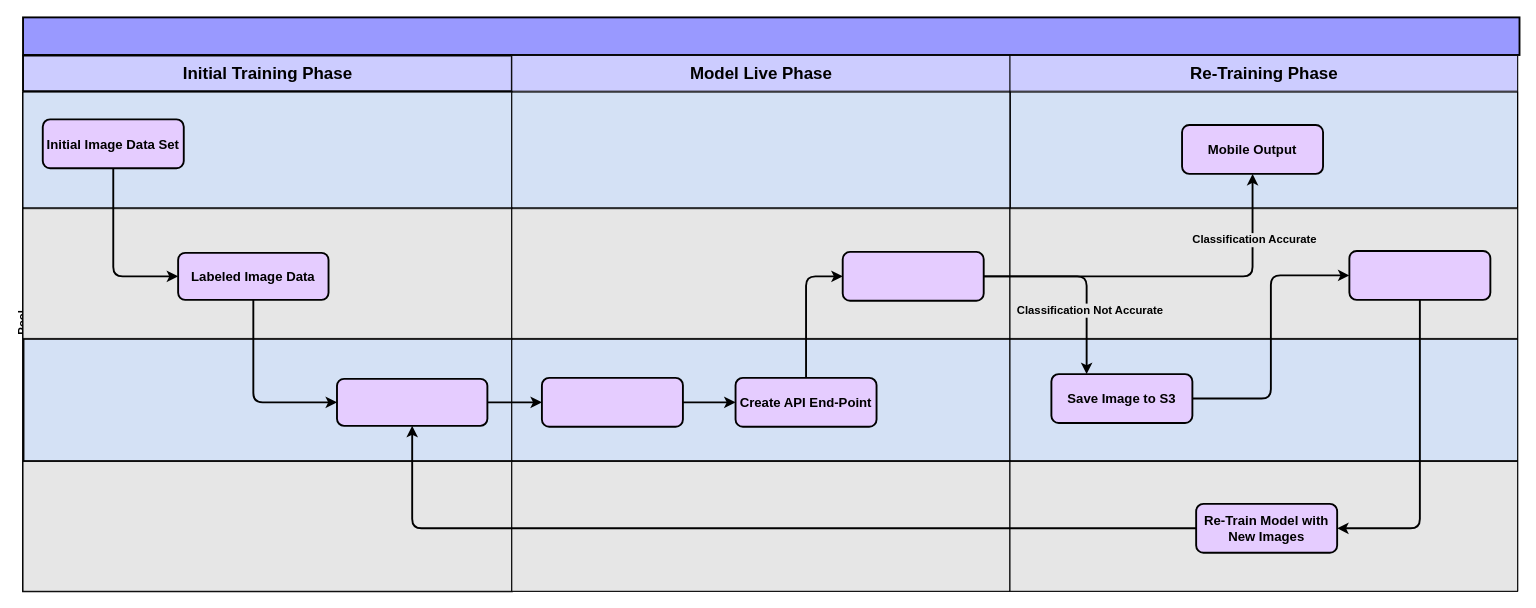
The diagram is 1536 pixels wide and 608 high, and some of its shapes have lost their labels. The shapes that lost their labels are listed below. From the top down, each one's centre as x and y in pixels, then its label:
the point at 771,35: Image Object Detection & Classification Model
the point at 912,276: Submit Input Image for Classification
the point at 1419,275: Image Re-Labeling
the point at 412,401: Deep Learning Model Trained
the point at 611,401: Deploy Model in AWS
